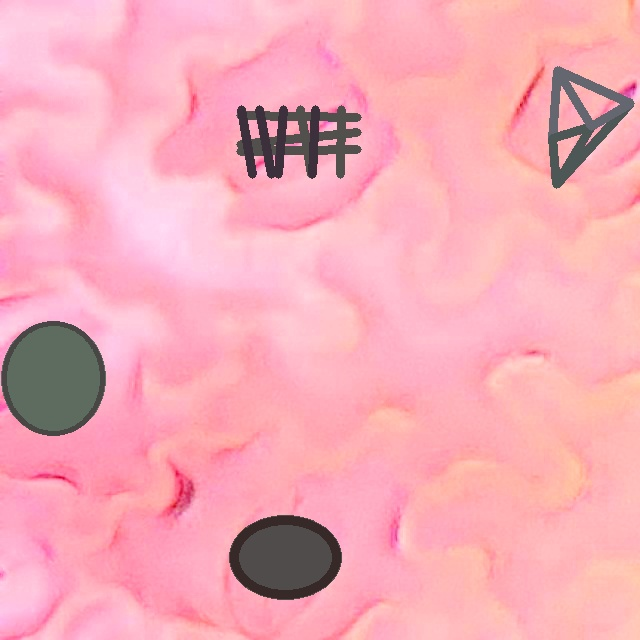close: (228, 515, 341, 599)
open: (1, 322, 106, 435), (549, 66, 633, 187), (236, 105, 361, 178)
